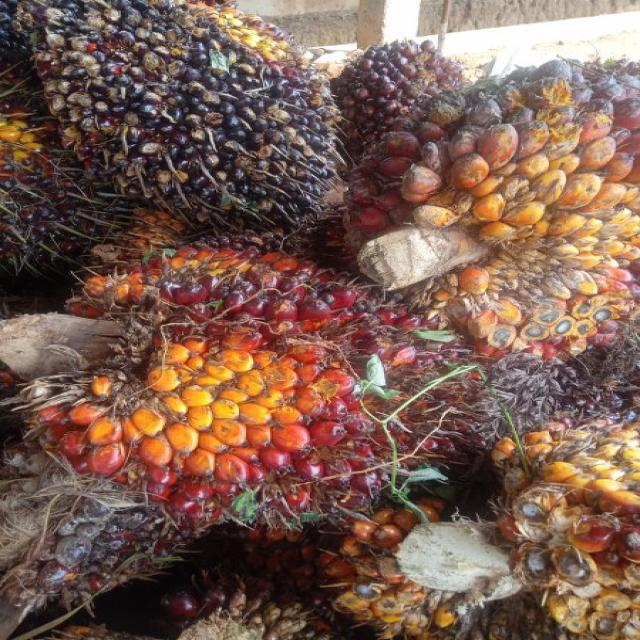fraksi 00: (32, 0, 392, 230)
fraksi 3: (6, 236, 488, 570)
